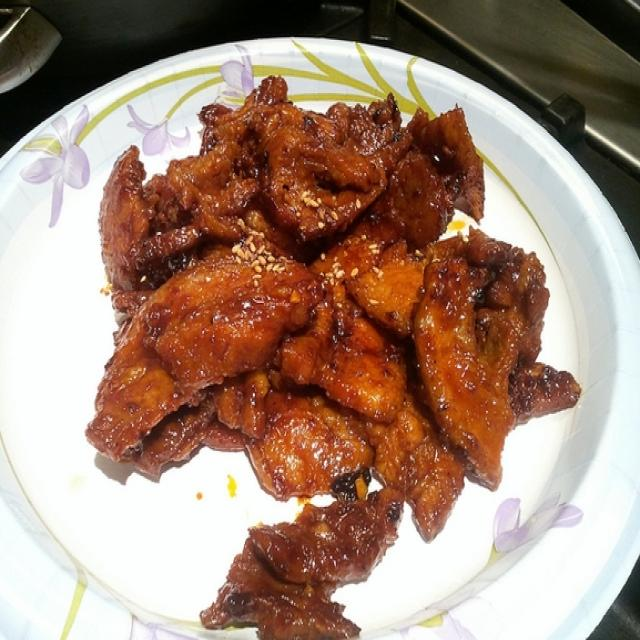牛肉菜式: (30, 53, 629, 628)
